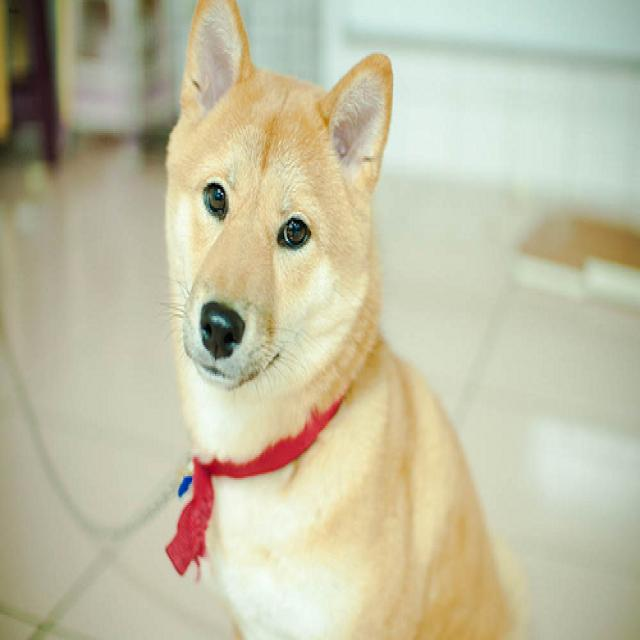dog-shiba_inu: (156, 2, 538, 636)
